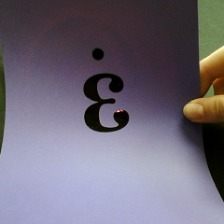violet3: (73, 45, 133, 136)
